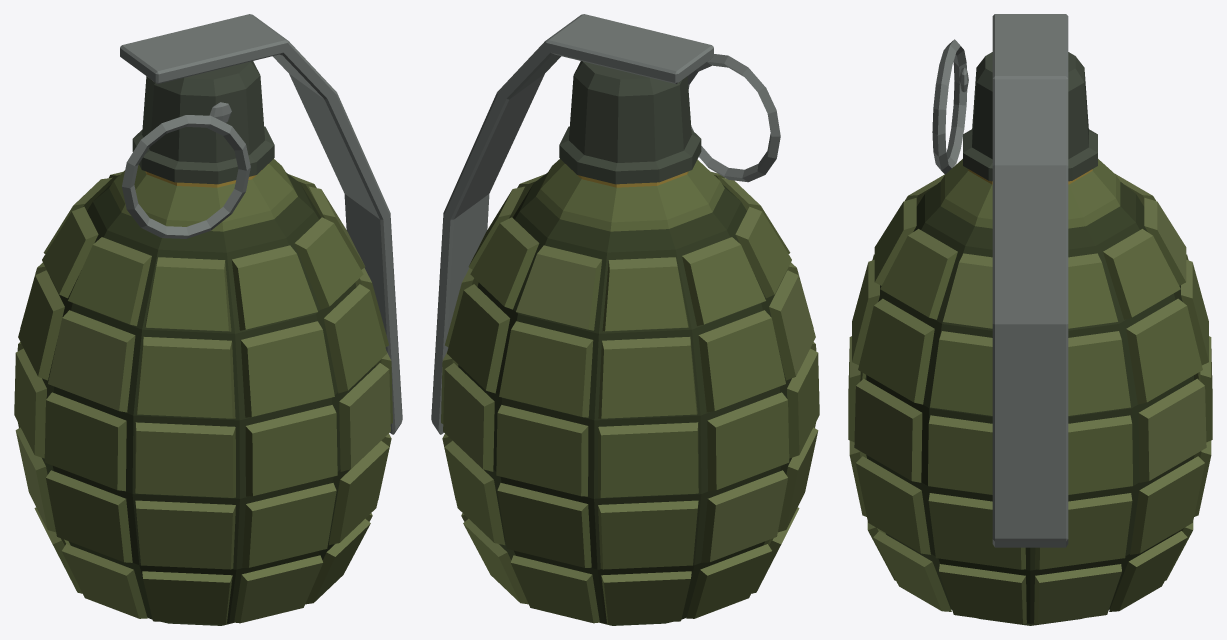
The model's file is PineappleGrenade_LowPoly.fbx.
3 renders of one model, left to right at view 1: azimuth 30°, elevation 25°; view 2: azimuth 150°, elevation 25°; view 3: azimuth 270°, elevation 25°, orthographic.
Visible parts, largest first — view 1: Body_50RaisedPanels, Body_RecessedCore, Lever_SteelSilhouette, Top_Cap, Body_Shoulder, Ring_LowPoly; view 2: Body_50RaisedPanels, Body_RecessedCore, Lever_SteelSilhouette, Top_Cap, Body_Shoulder, Ring_LowPoly; view 3: Body_50RaisedPanels, Lever_SteelSilhouette, Body_RecessedCore, Top_Cap, Body_Shoulder, Ring_LowPoly.
Boxes of the visible parts, left/top/right/bottom form: Body_50RaisedPanels: left=14, top=172, right=392, bottom=624; Body_RecessedCore: left=42, top=172, right=375, bottom=625; Lever_SteelSilhouette: left=120, top=14, right=402, bottom=434; Top_Cap: left=132, top=61, right=274, bottom=184; Body_Shoulder: left=109, top=159, right=297, bottom=231; Ring_LowPoly: left=122, top=115, right=250, bottom=238; Body_50RaisedPanels: left=441, top=172, right=819, bottom=624; Body_RecessedCore: left=458, top=172, right=791, bottom=625; Lever_SteelSilhouette: left=431, top=14, right=713, bottom=434; Top_Cap: left=559, top=61, right=701, bottom=184; Body_Shoulder: left=536, top=159, right=724, bottom=231; Ring_LowPoly: left=687, top=54, right=780, bottom=182; Body_50RaisedPanels: left=848, top=174, right=1212, bottom=624; Lever_SteelSilhouette: left=992, top=14, right=1068, bottom=547; Body_RecessedCore: left=865, top=182, right=1195, bottom=625; Top_Cap: left=963, top=52, right=1097, bottom=181; Body_Shoulder: left=940, top=159, right=1120, bottom=228; Ring_LowPoly: left=932, top=39, right=967, bottom=174.
Size of the model in its own units: 0.0838 by 0.127 by 0.077.
